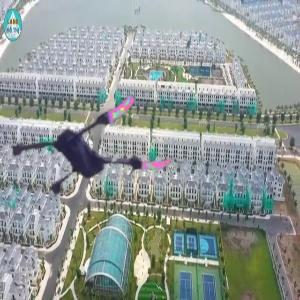drone: (12, 64, 174, 226)
